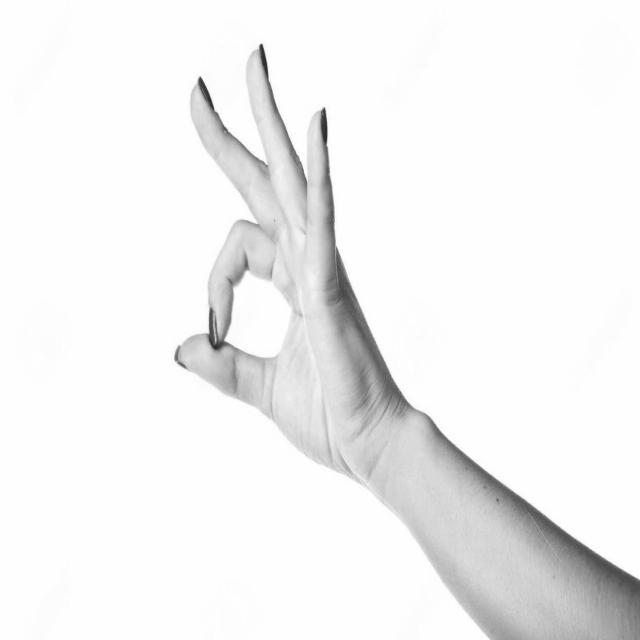perfect: (168, 36, 425, 502)
